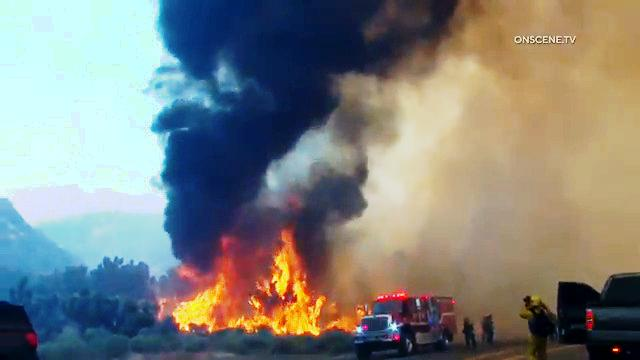fire: (176, 233, 334, 334)
smoke: (162, 68, 635, 229), (162, 4, 339, 230)
